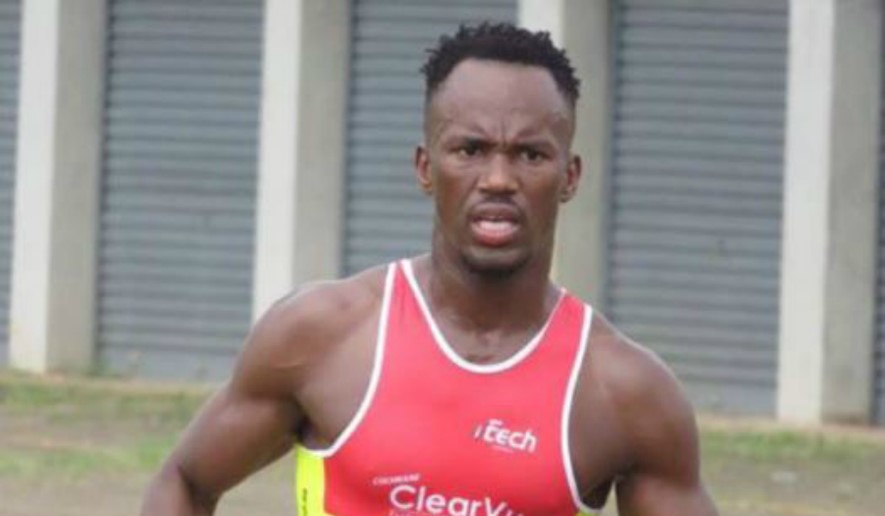face_no_mask: (426, 37, 581, 275)
